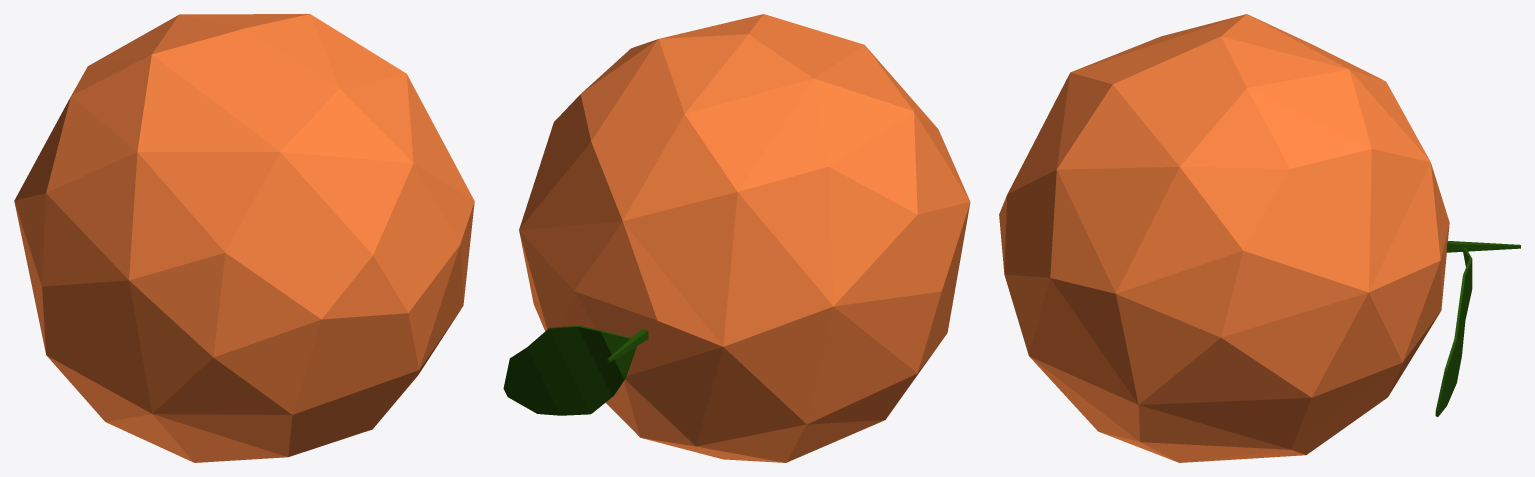
File: FullOrange.fbx
3 views of the same model, side by side, from view 1: azimuth 30°, elevation 25°; view 2: azimuth 150°, elevation 25°; view 3: azimuth 270°, elevation 25° (orthographic).
Parts seen in each view (by area): view 1: Orange; view 2: Orange; view 3: Orange.
Boxes of the visible parts, x1,y1,x2,y2 form: Orange: (14,14,474,462); Orange: (503,14,970,462); Orange: (999,14,1520,462).
Bounding box in the file's own units: 0.1008 × 0.0998 × 0.1156.
